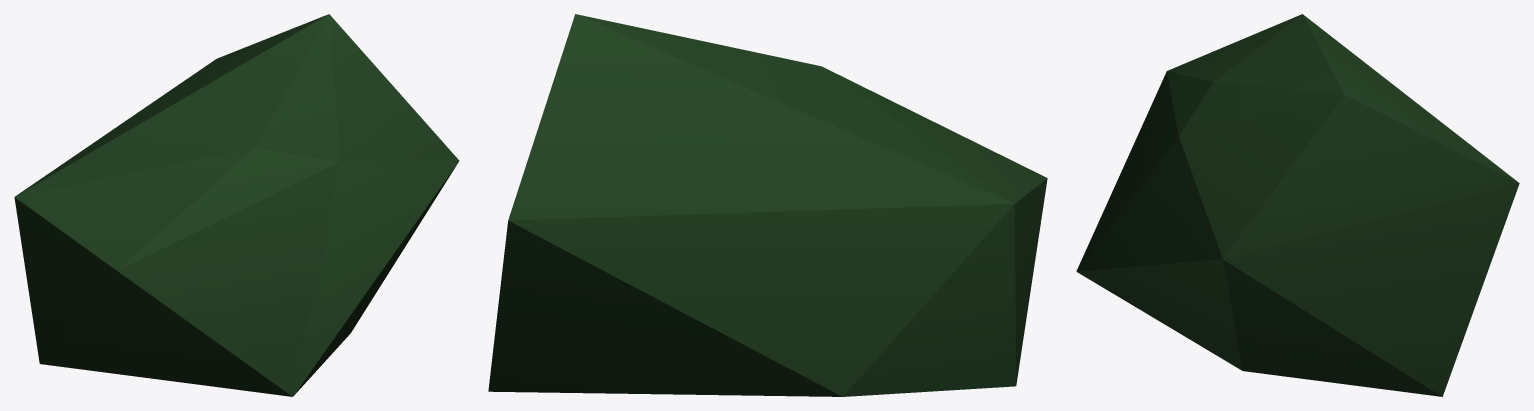
The model's file is uranium-238.glb.
3 views of the same model, side by side, from view 1: azimuth 30°, elevation 25°; view 2: azimuth 150°, elevation 25°; view 3: azimuth 270°, elevation 25° (orthographic). The views are drawn at different scales.
Visible parts, largest first — view 1: uranium-238; view 2: uranium-238; view 3: uranium-238.
Part boxes in pixels (box(x1,y1,x2,y2)): uranium-238: box(14, 14, 459, 396); uranium-238: box(488, 14, 1047, 396); uranium-238: box(1076, 14, 1519, 396).
Size of the model in its own units: 0.2 by 0.13 by 0.18.
